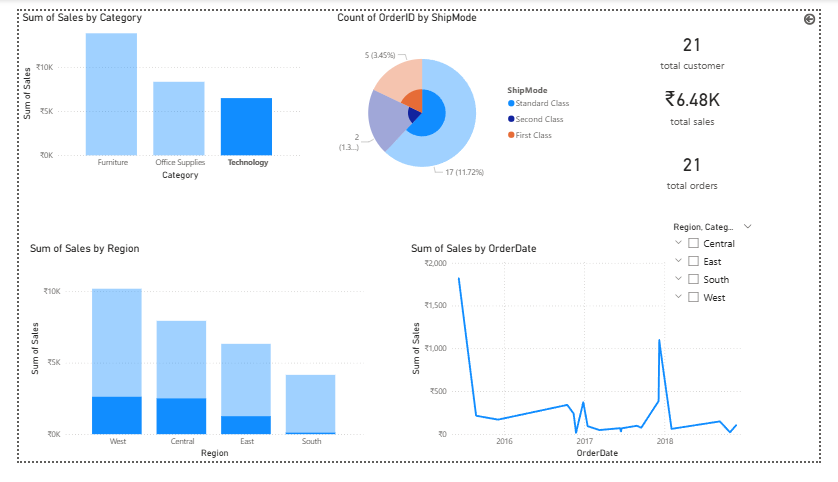

The dashboard page shown, as its layout file describes it:
{"tool":"powerbi","page":{"name":"Page 1","canvas":[1280,720],"ordinal":0},"visuals":[{"type":"clusteredColumnChart","fields":{"Y":["Sum(new1.Sales)"],"Category":["new1.Category"]},"box":[0,0,457.8,274.9],"z":0},{"type":"clusteredColumnChart","fields":{"Y":["Sum(new1.Sales)"],"Category":["new1.Region"]},"box":[12,369,544,351],"z":1000},{"type":"pieChart","fields":{"Category":["new1.ShipMode"],"Y":["CountNonNull(new1.OrderID)"]},"box":[503.8,0,390.6,307.3],"z":2000},{"type":"lineChart","fields":{"Category":["new1.OrderDate"],"Y":["Sum(new1.Sales)"]},"box":[622,369.5,543.6,350.8],"z":3000},{"type":"card","fields":{"Values":["Count(new1.CustomerID)"]},"box":[903.1,26.1,347.1,73.4],"z":4000},{"type":"actionButton","box":[0,0,100,40],"z":5000},{"type":"card","fields":{"Values":["Sum(new1.Sales)"]},"box":[903.1,99.5,347.1,103.2],"z":6000},{"type":"card","fields":{"Values":["Count(new1.OrderID)"]},"box":[903.1,202.8,347.1,104.5],"z":7000},{"type":"slicer","fields":{"Values":["new1.Region","new1.Category","new1.ShipMode"]},"box":[1033.7,332.1,150.5,148],"z":7001}]}

Visuals, with their boxes in screenshot pixels (x1, y1, x2, y2), scaled from the page's 1280x720 canvas onto the 838x482 screenshot:
clusteredColumnChart - Sum(new1.Sales) x new1.Category: bbox=[0, 0, 300, 184]
clusteredColumnChart - Sum(new1.Sales) x new1.Region: bbox=[8, 247, 364, 481]
pieChart - new1.ShipMode x CountNonNull(new1.OrderID): bbox=[330, 0, 586, 206]
lineChart - new1.OrderDate x Sum(new1.Sales): bbox=[407, 247, 763, 481]
card - Count(new1.CustomerID): bbox=[591, 17, 818, 67]
actionButton: bbox=[0, 0, 65, 27]
card - Sum(new1.Sales): bbox=[591, 67, 818, 136]
card - Count(new1.OrderID): bbox=[591, 136, 818, 206]
slicer - new1.Region x new1.Category: bbox=[677, 222, 775, 321]
